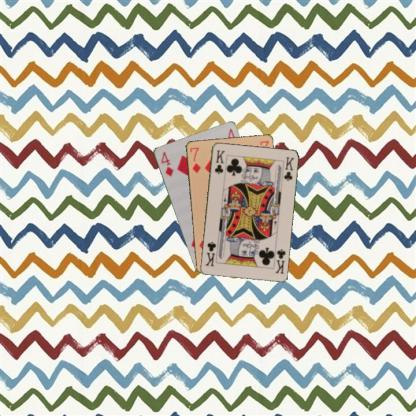4d: (158, 149, 174, 177)
7d: (187, 144, 202, 174)
Kc: (272, 246, 287, 275), (212, 147, 226, 175)
